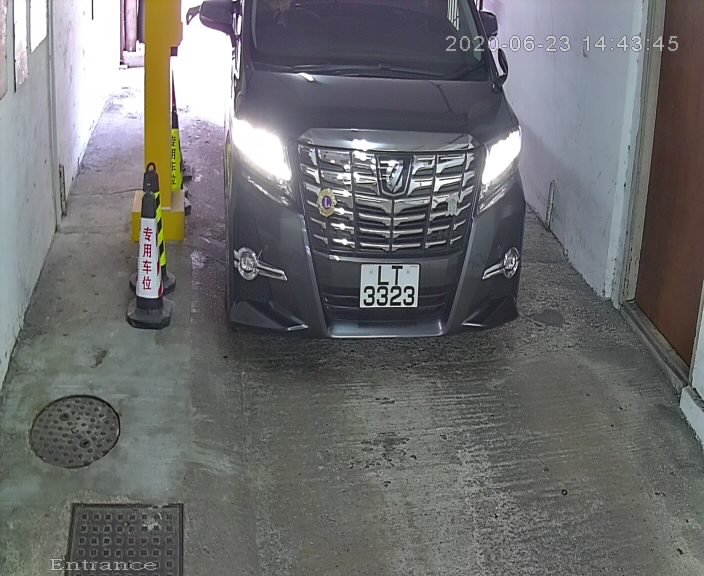privatecar: (189, 1, 538, 359)
